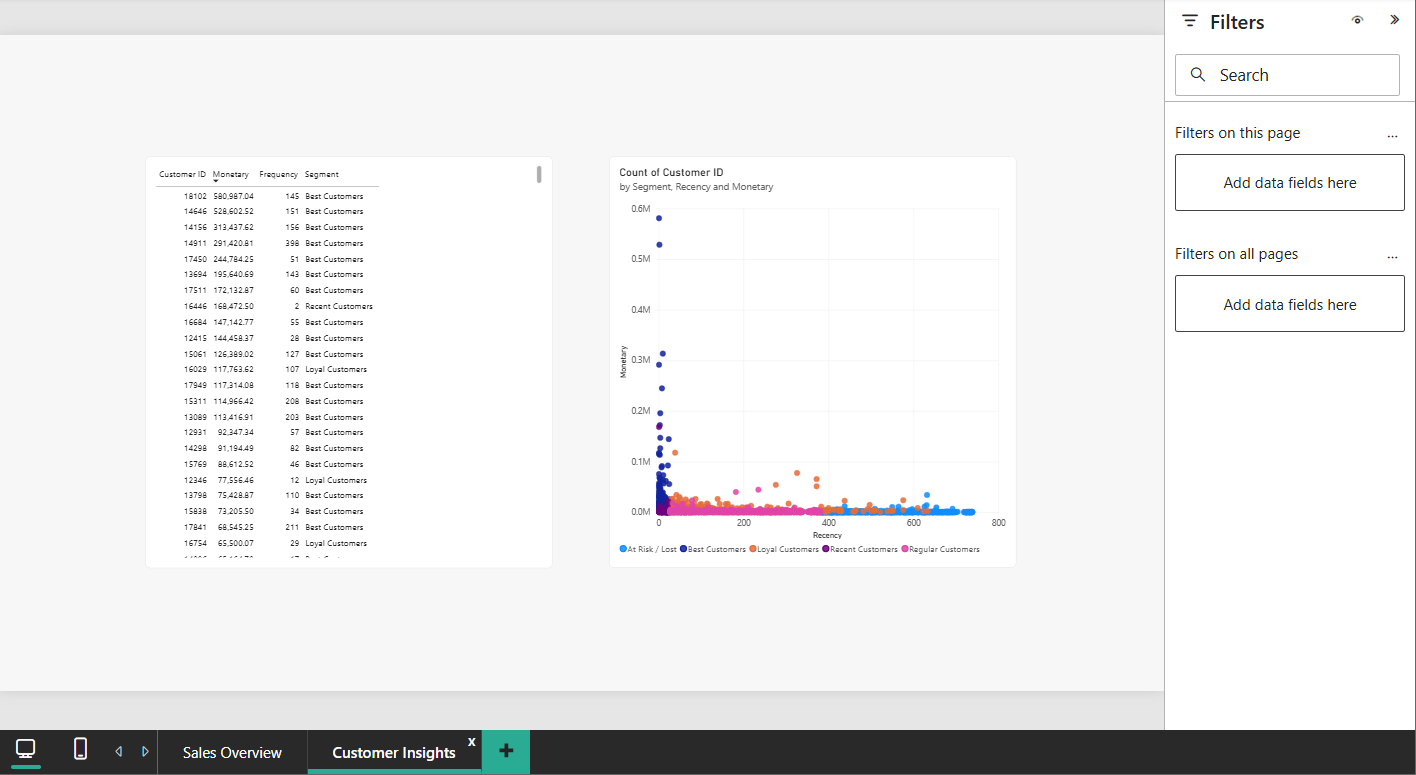

The dashboard page shown, as its layout file describes it:
{"tool":"powerbi","page":{"name":"Customer Insights","canvas":[1920,1080],"ordinal":1},"visuals":[{"type":"tableEx","fields":{"Values":["rfm_analysis.Customer ID","rfm_analysis.Monetary","rfm_analysis.Frequency","rfm_analysis.Segment"]},"box":[242,200,670,678],"z":0},{"type":"scatterChart","fields":{"Series":["rfm_analysis.Segment"],"X":["rfm_analysis.Recency"],"Y":["rfm_analysis.Monetary"]},"box":[1007.5,200,670,677.5],"z":1}]}

Visuals, with their boxes on the page's 1920x1080 design canvas (x1, y1, x2, y2). These are canvas units, not pixel positions in the 1416x775 screenshot, which may show the page scaled, cropped or inside an application window:
tableEx - rfm_analysis.Customer ID x rfm_analysis.Monetary: bbox=(242, 200, 912, 878)
scatterChart - rfm_analysis.Segment x rfm_analysis.Recency: bbox=(1008, 200, 1678, 878)
